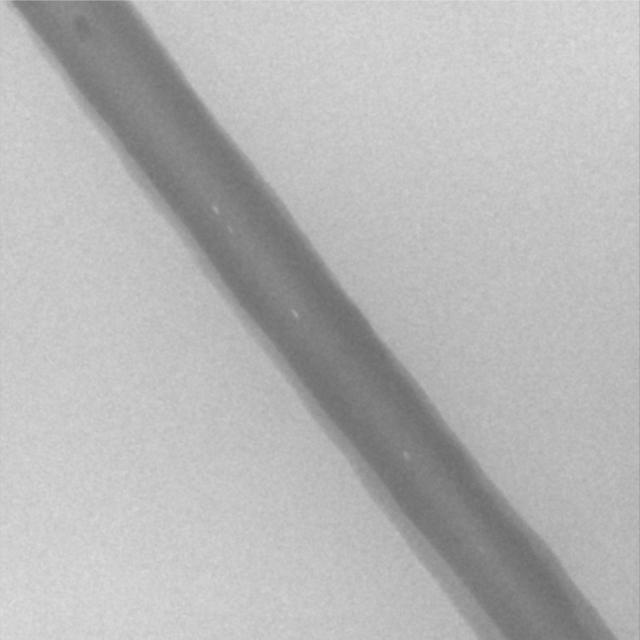air hole: (289, 307, 298, 318), (403, 451, 411, 463), (225, 224, 233, 235), (210, 204, 219, 213)
